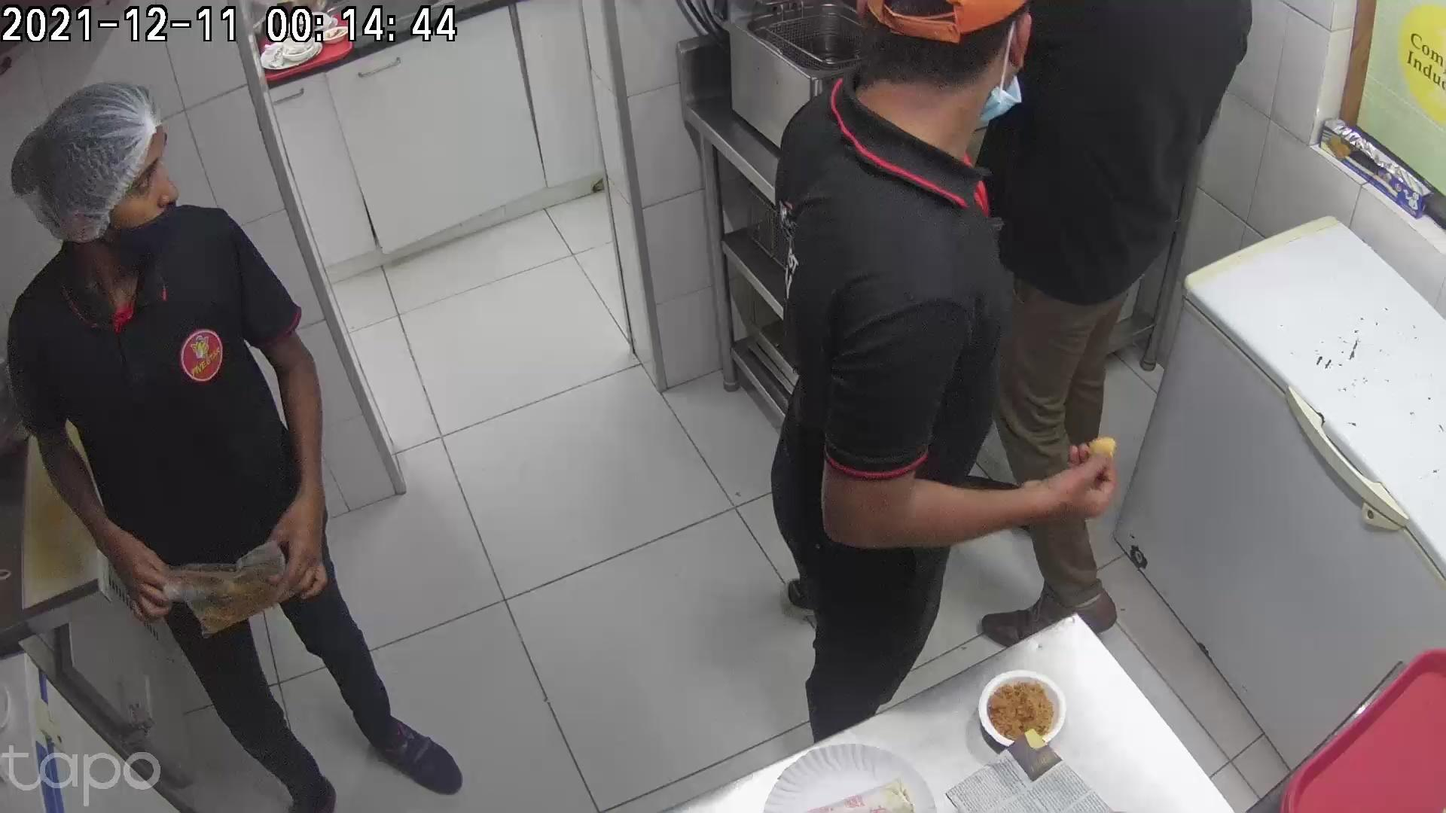no_gloves: (387, 584, 554, 715)
